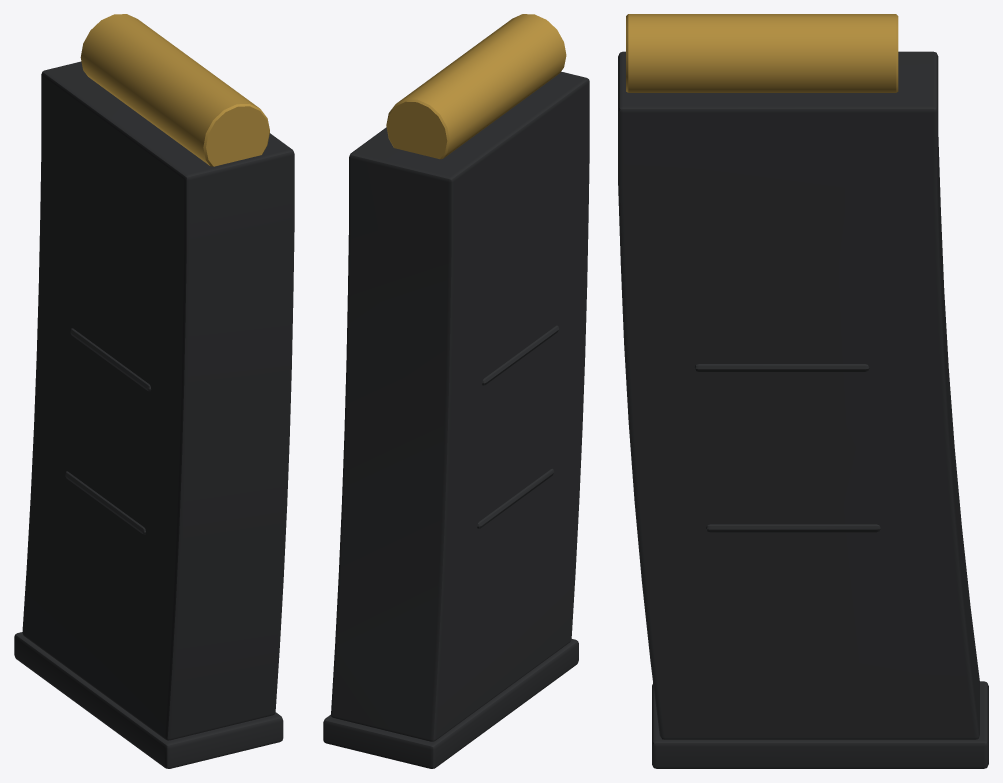
Rendered from mod_harrow_extended_mag.glb.
3 views of the same model, side by side, from view 1: azimuth 30°, elevation 25°; view 2: azimuth 150°, elevation 25°; view 3: azimuth 270°, elevation 25° (orthographic). The views are drawn at different scales.
Parts seen in each view (by area): view 1: Magazine, MagazineRound; view 2: Magazine, MagazineRound; view 3: Magazine, MagazineRound.
Boxes of the visible parts, box(x1,y1,x2,y2) form: Magazine: box(14, 61, 294, 768); MagazineRound: box(80, 14, 269, 166); Magazine: box(323, 71, 589, 768); MagazineRound: box(386, 14, 566, 159); Magazine: box(618, 51, 988, 768); MagazineRound: box(626, 14, 898, 92).
Bounding box in the file's own units: 0.0354 × 0.189 × 0.088.
